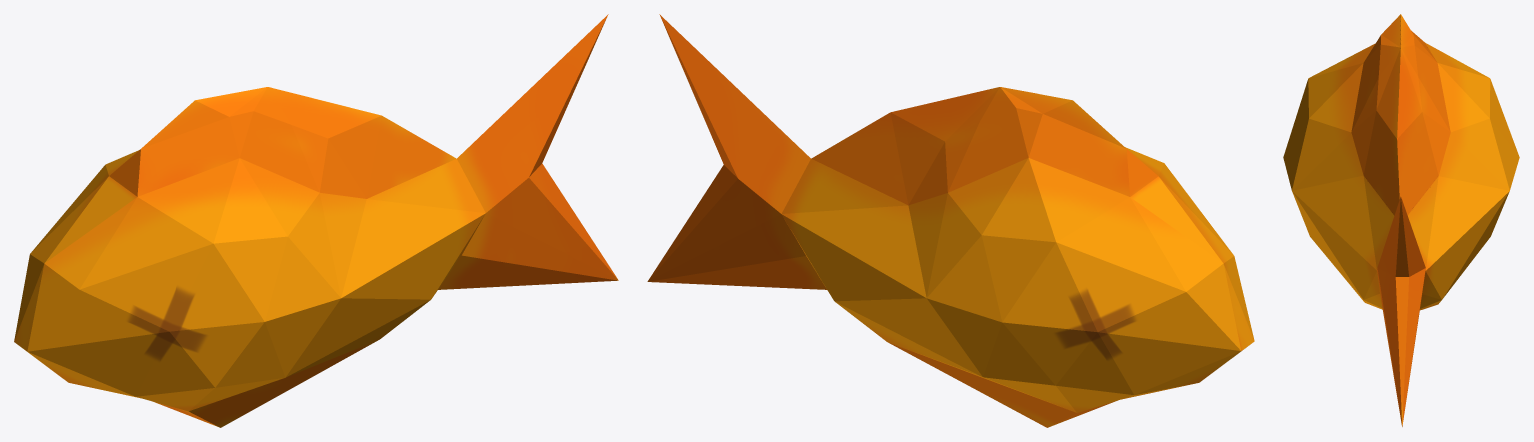
Rendered from fish.fbx.
3 views of the same model, side by side, from view 1: azimuth 30°, elevation 25°; view 2: azimuth 150°, elevation 25°; view 3: azimuth 270°, elevation 25° (orthographic). The views are drawn at different scales.
Parts seen in each view (by area): view 1: Icosphere; view 2: Icosphere; view 3: Icosphere.
Boxes of the visible parts, left/top/right/bottom form: Icosphere: left=14, top=14, right=618, bottom=427; Icosphere: left=647, top=14, right=1254, bottom=427; Icosphere: left=1283, top=14, right=1519, bottom=426.
Bounding box in the file's own units: 1.12 × 0.5984 × 0.4563.
